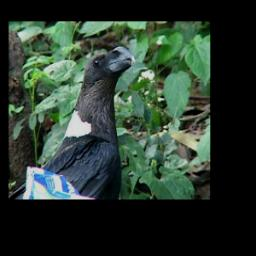Crow: (33, 47, 137, 199)
